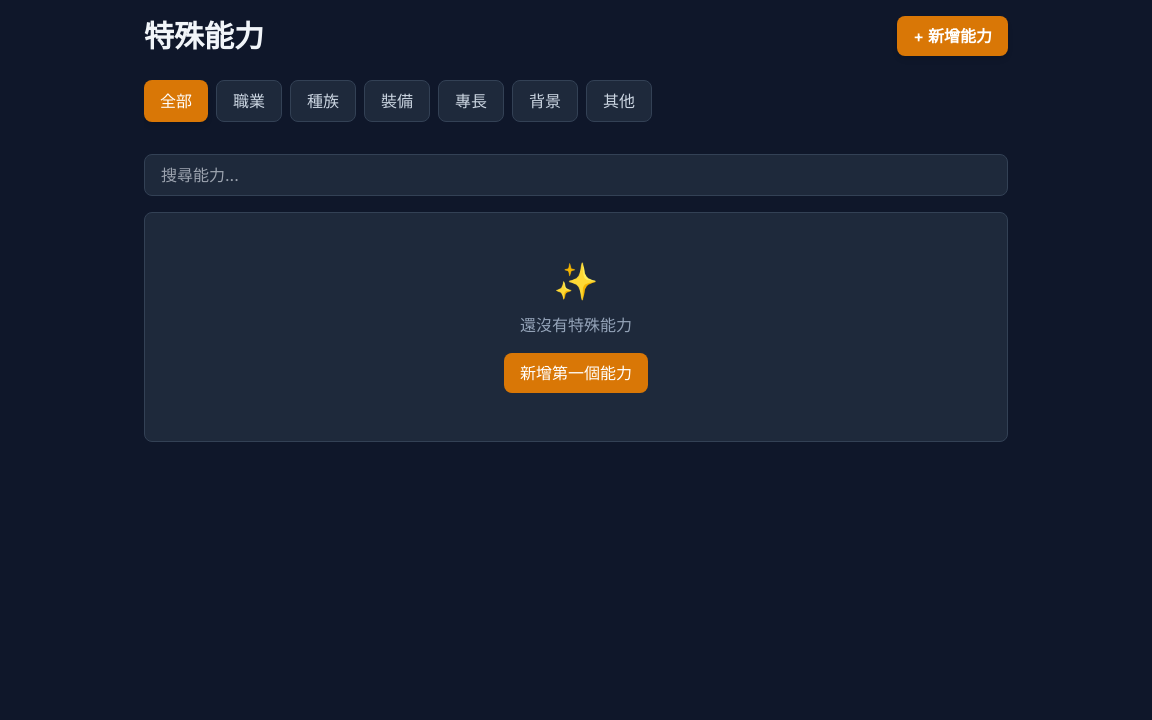
it: AbilitiesPage › 點「+ 新增能力」會打開學習能力 modal
Click the button "+ 新增能力".
click(953, 36)  # box [897,16,1008,56]
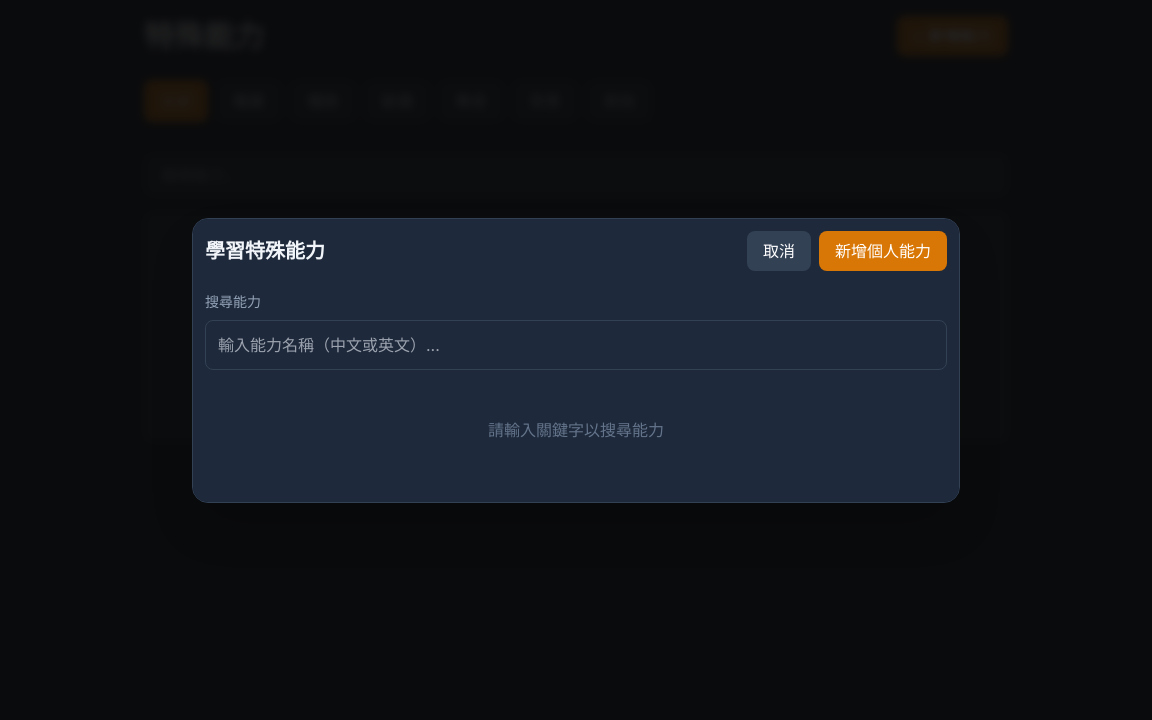
Now the heading "學習特殊能力" is shown, box [205,236,325,264]
